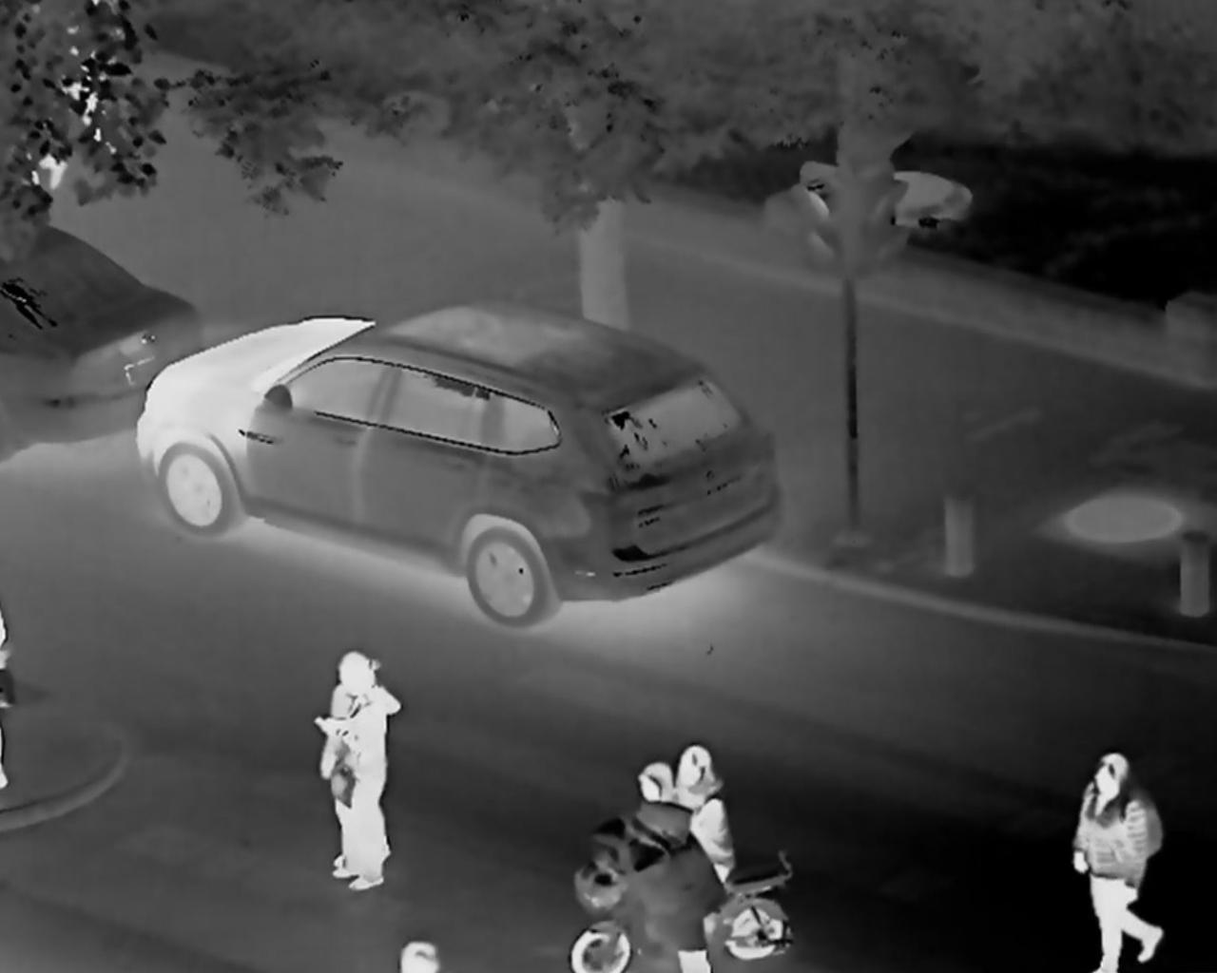person: (1089, 745, 1192, 973), (322, 658, 419, 873), (678, 748, 738, 904), (640, 751, 680, 846)
